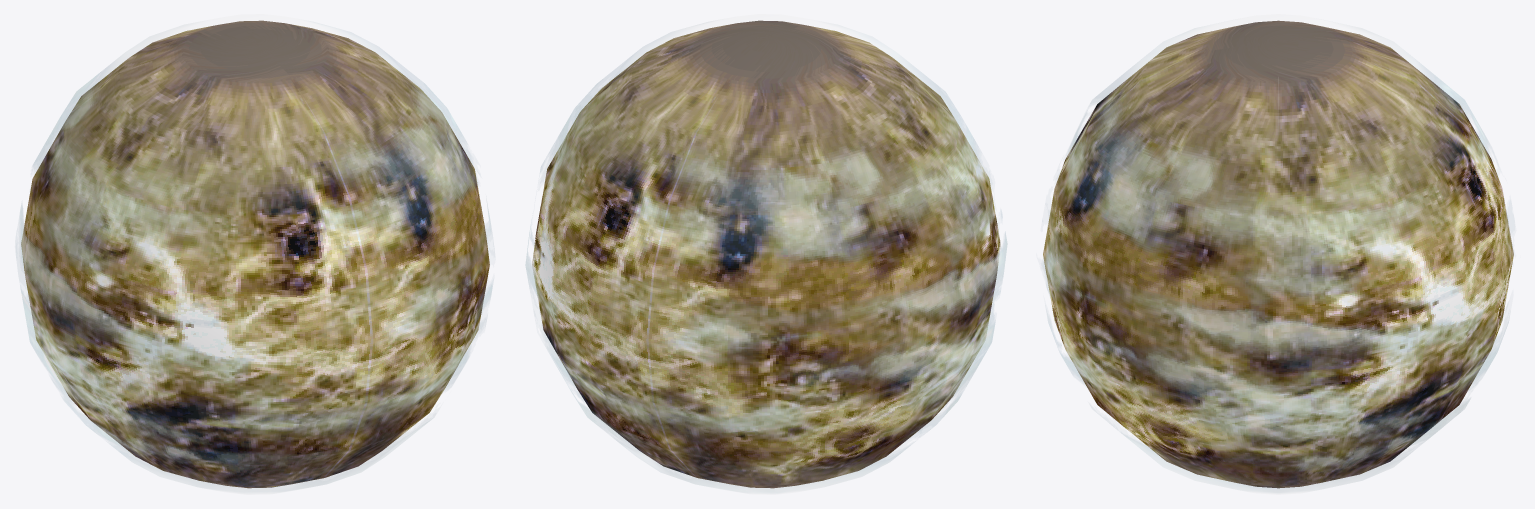
Rendered from planet_brownie_cmp.gltf.
3 views of the same model, side by side, from view 1: azimuth 30°, elevation 25°; view 2: azimuth 150°, elevation 25°; view 3: azimuth 270°, elevation 25° (orthographic).
Visible parts, largest first — view 1: Root, clouds; view 2: Root, clouds; view 3: Root, clouds.
Boxes of the visible parts, x1=… form: Root: x1=21, y1=20, x2=489, y2=488; clouds: x1=16, y1=14, x2=492, y2=494; Root: x1=532, y1=20, x2=1000, y2=488; clouds: x1=525, y1=14, x2=1007, y2=494; Root: x1=1043, y1=20, x2=1513, y2=488; clouds: x1=1042, y1=14, x2=1509, y2=494.
Bounding box in the file's own units: 44.28 × 44.28 × 44.28.
Materials: 2 (2 with a texture image).
